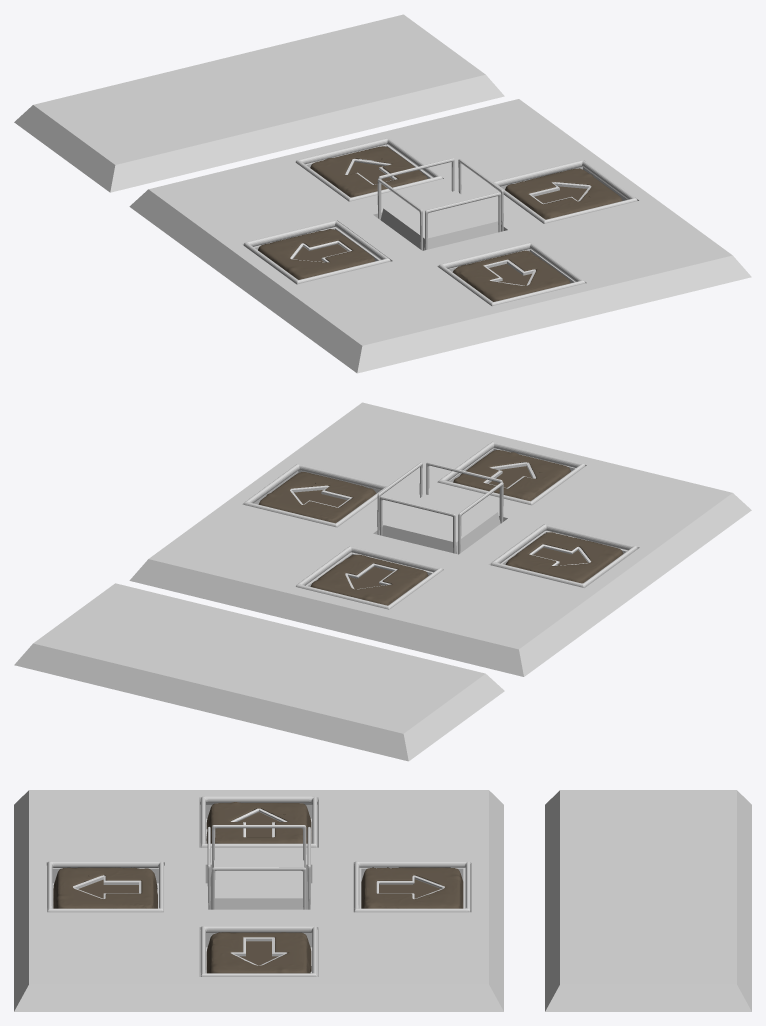
Rendered from stage 1.fbx.
3 renders of one model, top to bottom at view 1: azimuth 30°, elevation 25°; view 2: azimuth 150°, elevation 25°; view 3: azimuth 270°, elevation 25°, orthographic. The views are drawn at different scales.
Parts seen in each view (by area): view 1: Plane, middle stage, left arrow, left arrow.002, left arrow.001, left arrow.003, left light, left light.001, left light.002, left light.003; view 2: Plane, middle stage, left arrow, left arrow.003, left arrow.002, left arrow.001, left light, left light.002, left light.001, left light.003; view 3: Plane, middle stage, left arrow.002, left arrow.003, left arrow.001, left arrow, left light.003, left light, left light.001, left light.002, rail, rail2 (+3 smaller).
Part boxes in pixels (left/top/right/bottom): Plane: left=14, top=14, right=751, bottom=373; middle stage: left=380, top=190, right=498, bottom=250; left arrow: left=258, top=229, right=375, bottom=279; left arrow.002: left=505, top=168, right=622, bottom=219; left arrow.001: left=452, top=250, right=570, bottom=301; left arrow.003: left=310, top=146, right=428, bottom=197; left light: left=243, top=220, right=390, bottom=284; left light.001: left=438, top=242, right=585, bottom=306; left light.002: left=493, top=160, right=637, bottom=223; left light.003: left=295, top=138, right=442, bottom=201; Plane: left=14, top=402, right=751, bottom=761; middle stage: left=382, top=494, right=500, bottom=554; left arrow: left=505, top=532, right=623, bottom=583; left arrow.003: left=310, top=554, right=428, bottom=605; left arrow.002: left=258, top=472, right=376, bottom=523; left arrow.001: left=453, top=450, right=570, bottom=501; left light: left=490, top=524, right=637, bottom=587; left light.002: left=243, top=463, right=388, bottom=527; left light.001: left=438, top=441, right=585, bottom=505; left light.003: left=296, top=546, right=442, bottom=609; Plane: left=14, top=790, right=751, bottom=1011; middle stage: left=210, top=860, right=308, bottom=909; left arrow.002: left=206, top=932, right=311, bottom=973; left arrow.003: left=361, top=867, right=463, bottom=908; left arrow.001: left=53, top=867, right=157, bottom=908; left arrow: left=206, top=802, right=311, bottom=843; left light.003: left=354, top=861, right=470, bottom=912; left light: left=200, top=796, right=317, bottom=847; left light.001: left=47, top=861, right=163, bottom=912; left light.002: left=200, top=926, right=317, bottom=976; rail: left=212, top=867, right=306, bottom=909; rail2: left=212, top=825, right=306, bottom=867.
Size of the model in its own units: 1433 by 200 by 2158.
